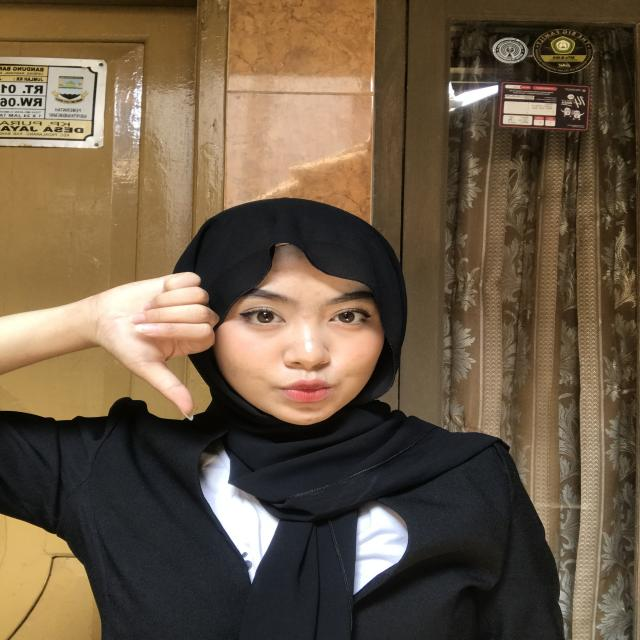sedih: (61, 255, 226, 441)
